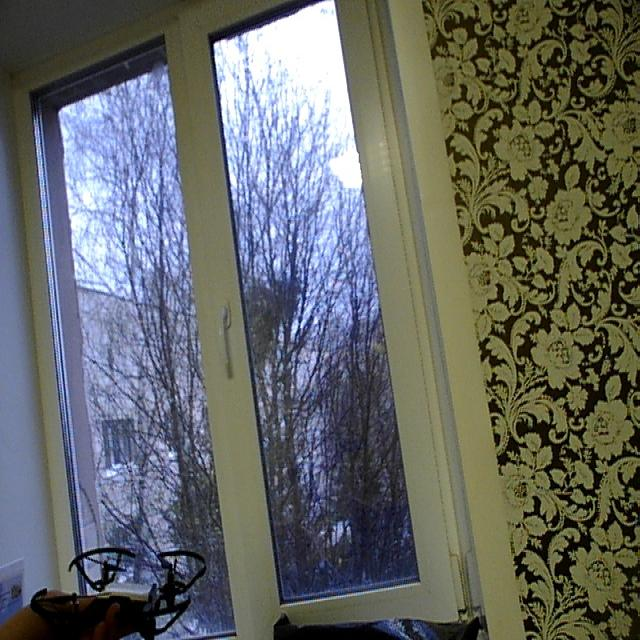drone: (28, 546, 213, 640)
